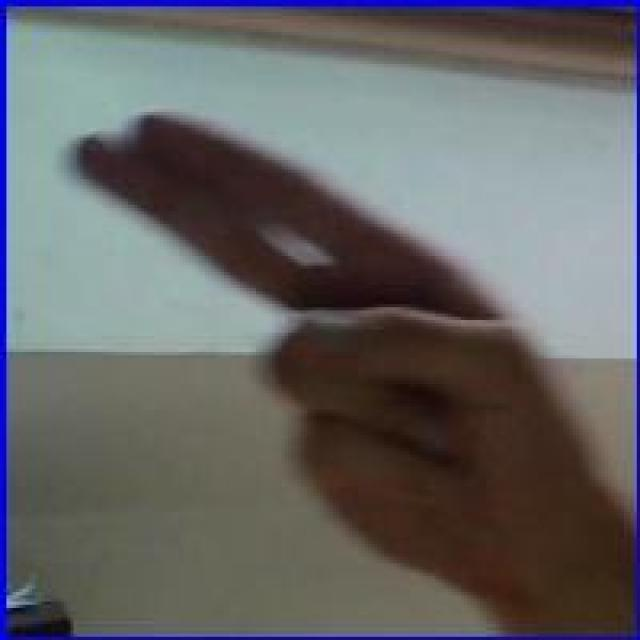H: (64, 102, 592, 608)
